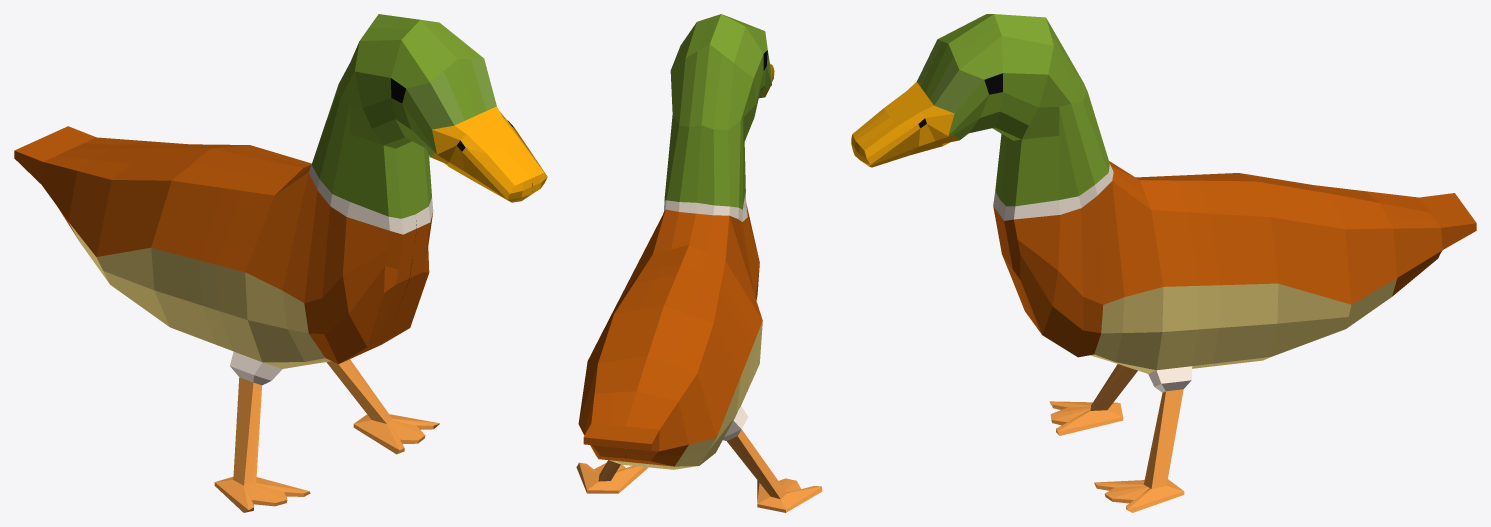
The model's file is duck.glb.
3 views of the same model, side by side, from view 1: azimuth 30°, elevation 25°; view 2: azimuth 150°, elevation 25°; view 3: azimuth 270°, elevation 25° (orthographic). The views are drawn at different scales.
Visible parts, largest first — view 1: Duck.001; view 2: Duck.001; view 3: Duck.001.
Part boxes in pixels (x1,y1,x2,y2): Duck.001: (14, 14, 547, 512); Duck.001: (576, 14, 822, 512); Duck.001: (851, 14, 1476, 512).
Size of the model in its own units: 5.24 by 9.45 by 11.73.
Materials: 1 (1 with a texture image).
